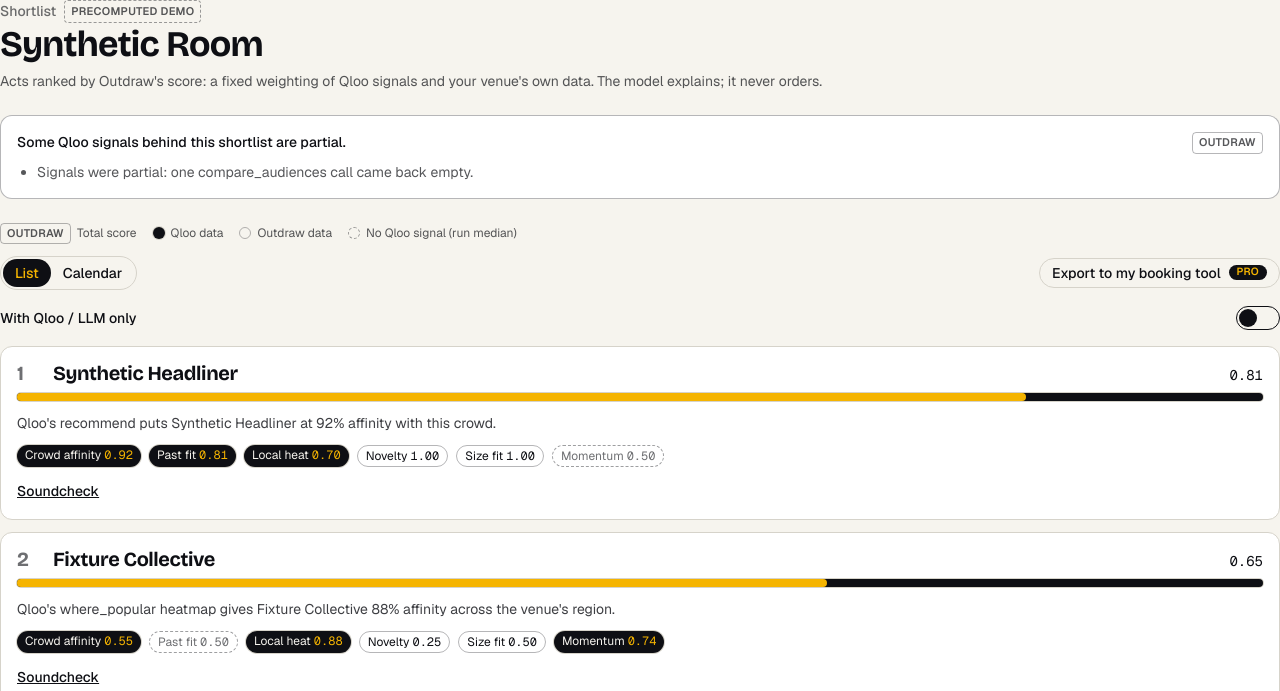
Test: precomputed seed run › opens Soundcheck and its brief from the page's data, with no fetch
The image size is (1280, 691).
Expected: the text with test id "precomputed-label" reads "Precomputed demo", [71,4,194,18]
Click the button with aria-label "Soundcheck for Synthetic Headliner" at point(58, 491), box [17,481,99,501]
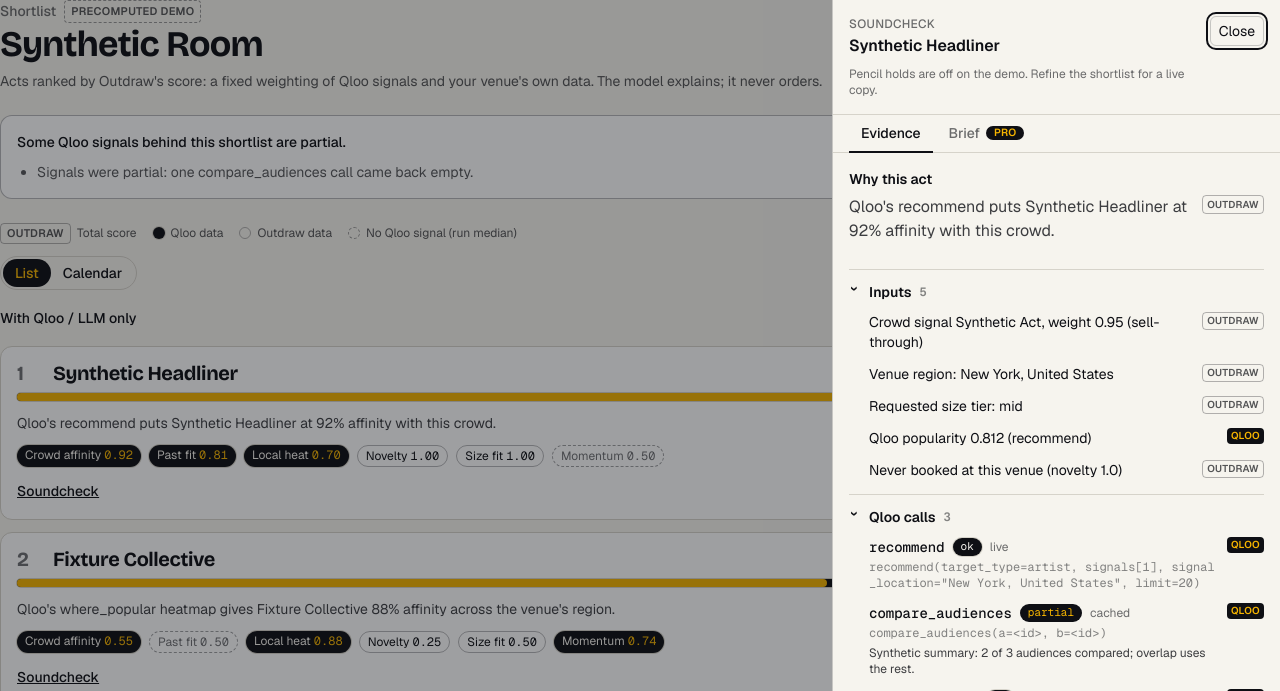
Now the heading "Why this act" is shown, box [849,170,932,188]
Now the text "Pencil holds are off on the demo" is shown, box [849,66,1184,98]
Click the tab "Brief Pro" at point(987, 134), box [937,115,1036,153]
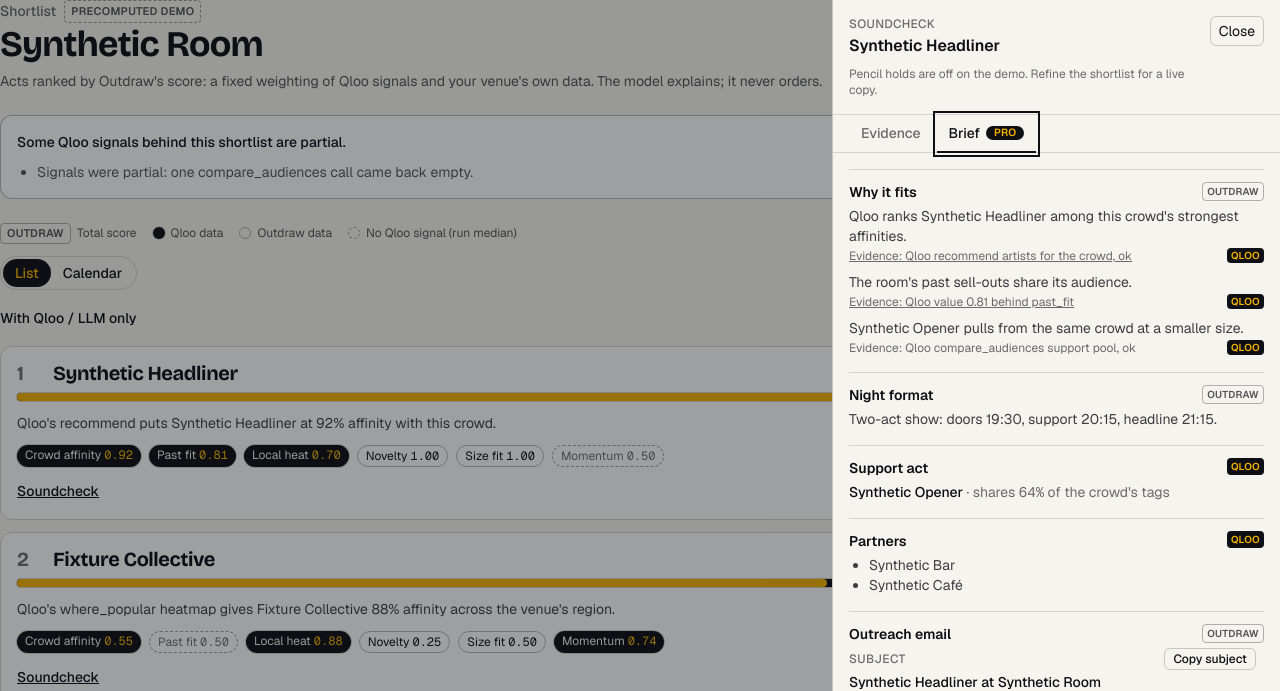
Now the heading "Outreach email" is shown, box [849,624,951,644]
